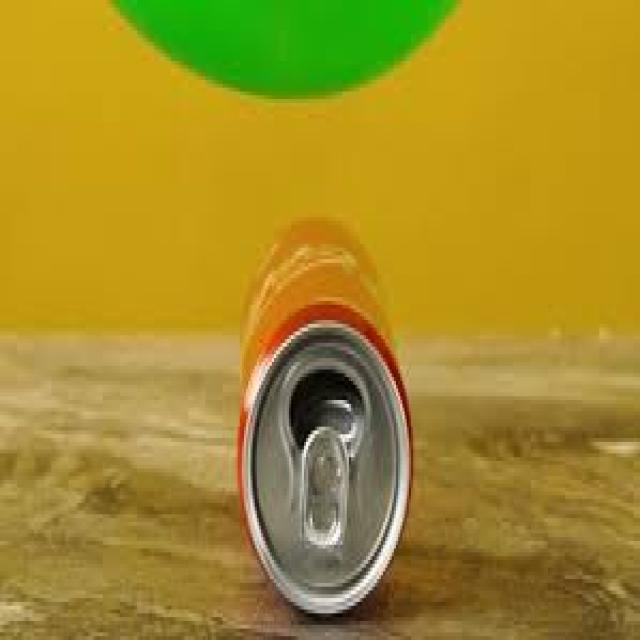Kaleng: (234, 214, 414, 618)
